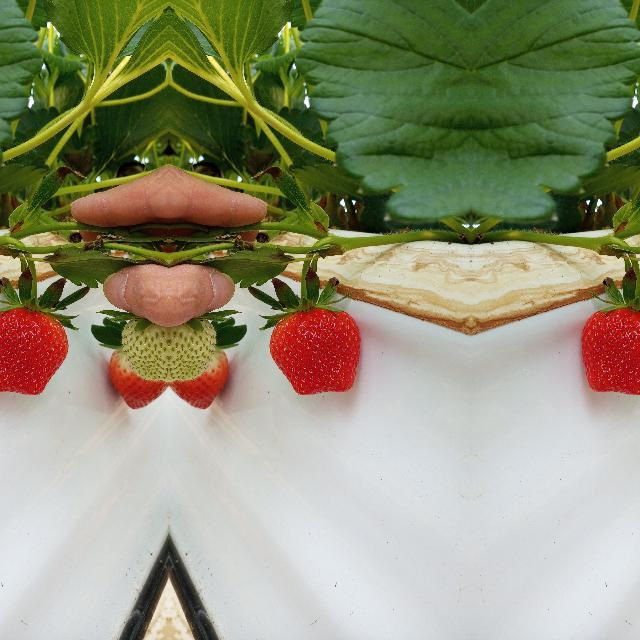Health_100: (268, 308, 359, 396), (0, 308, 67, 396), (581, 308, 640, 396)
Health_25: (170, 308, 210, 388), (126, 308, 166, 388)
